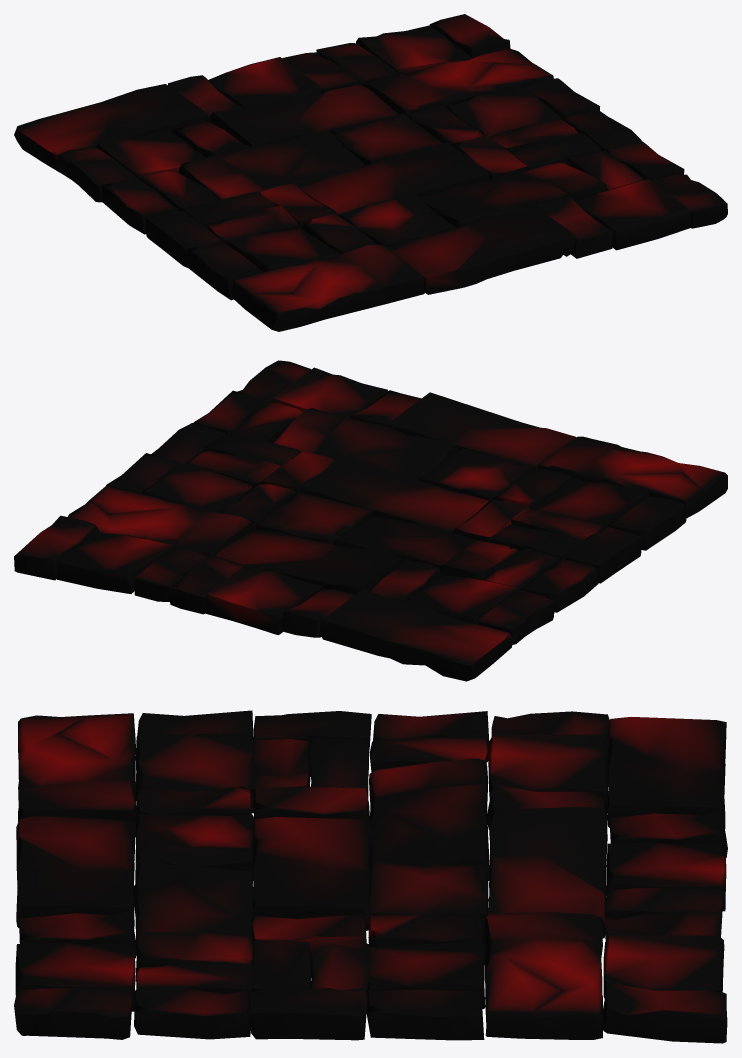
The model's file is Block_floor_6x6.fbx.
3 views of the same model, one above another, from view 1: azimuth 30°, elevation 25°; view 2: azimuth 150°, elevation 25°; view 3: azimuth 270°, elevation 25° (orthographic). The views are drawn at different scales.
Visible parts, largest first — view 1: StaticMeshActor_UAID_00155DBB35CDA82301_1108565689_LOD0; view 2: StaticMeshActor_UAID_00155DBB35CDA82301_1108565689_LOD0; view 3: StaticMeshActor_UAID_00155DBB35CDA82301_1108565689_LOD0.
Part boxes in pixels (x1,y1,x2,y2): StaticMeshActor_UAID_00155DBB35CDA82301_1108565689_LOD0: (14,14,727,331); StaticMeshActor_UAID_00155DBB35CDA82301_1108565689_LOD0: (14,360,727,681); StaticMeshActor_UAID_00155DBB35CDA82301_1108565689_LOD0: (14,710,727,1043).
Size of what is drawn, in the model's own units: 605 by 602 by 36.29.
